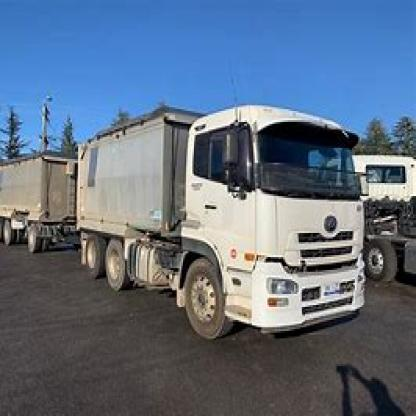dump_truck: (75, 94, 388, 366)
